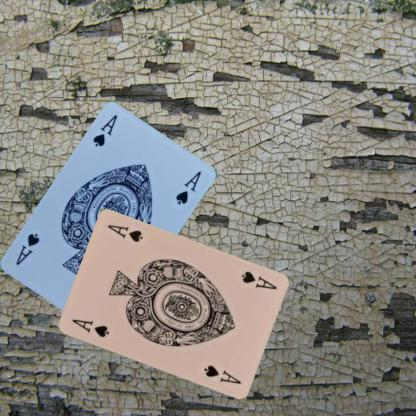As: (90, 112, 119, 149), (69, 316, 110, 338), (238, 269, 278, 291)
